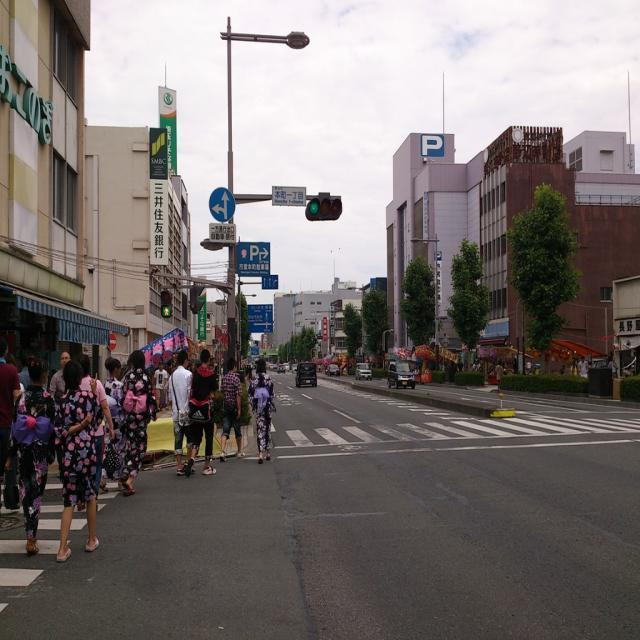off traffic light: (189, 287, 205, 314)
road_sign: (209, 187, 236, 222)
traffic light: (305, 198, 343, 221), (160, 290, 173, 317)
